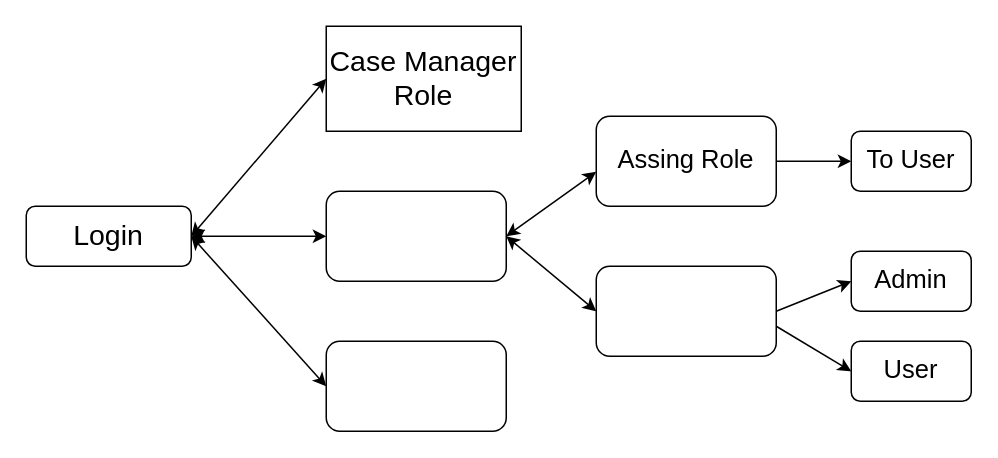
This 998x458 diagram has some shape labels left out. The centre of each missing label's shape, as x and y in pixels:
Create Case: (415,385)
Create New User: (685,310)
Manage Users: (415,235)
